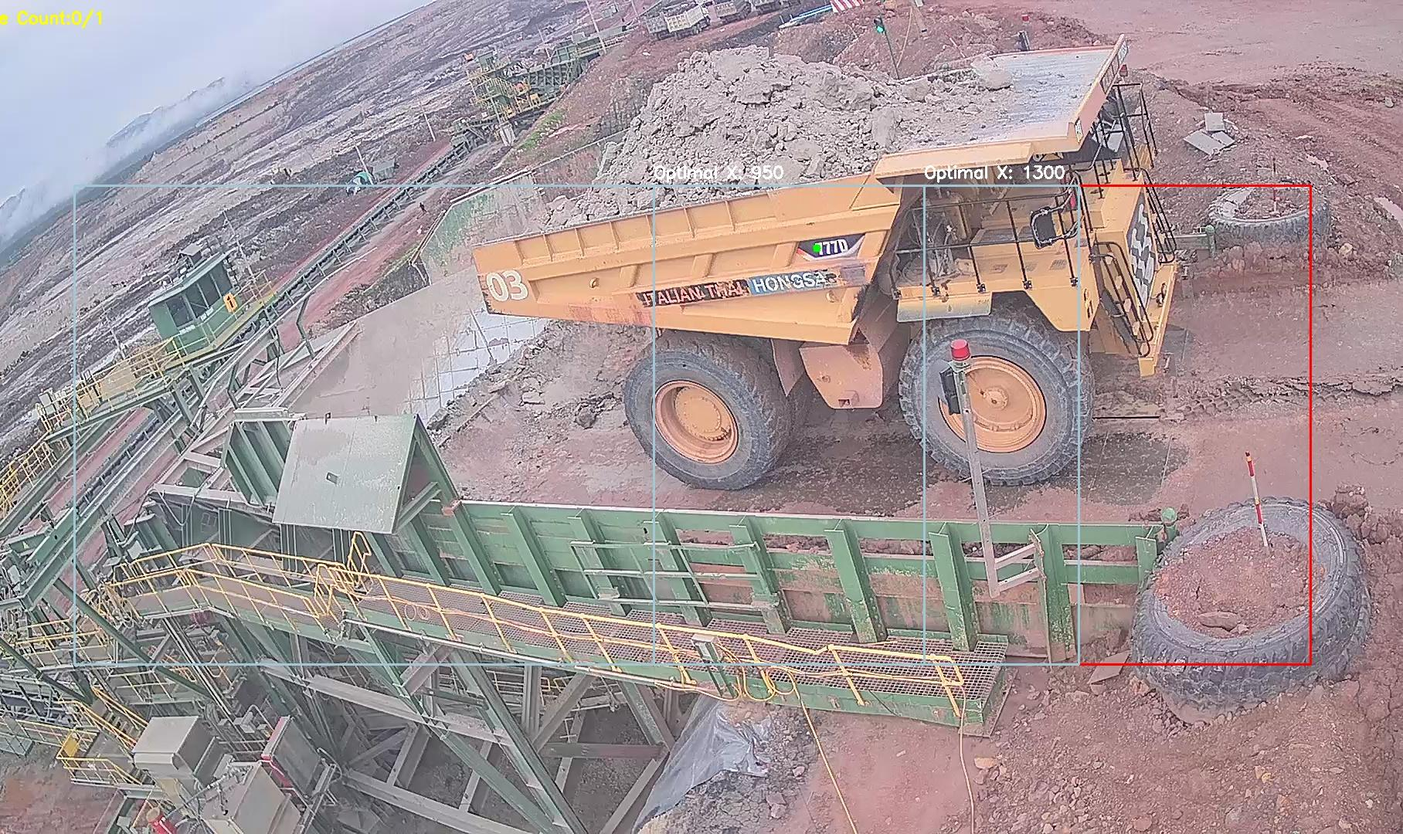company: (638, 265, 837, 306)
full_load: (613, 45, 890, 210)
mining_truck: (460, 32, 1189, 485)
tail_number: (477, 260, 541, 313)
truck_size: (788, 226, 867, 263)
